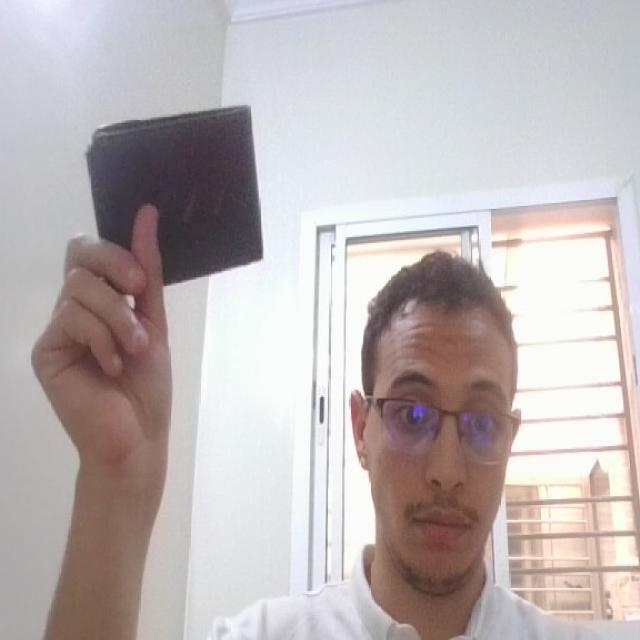wallet: (75, 95, 284, 304)
